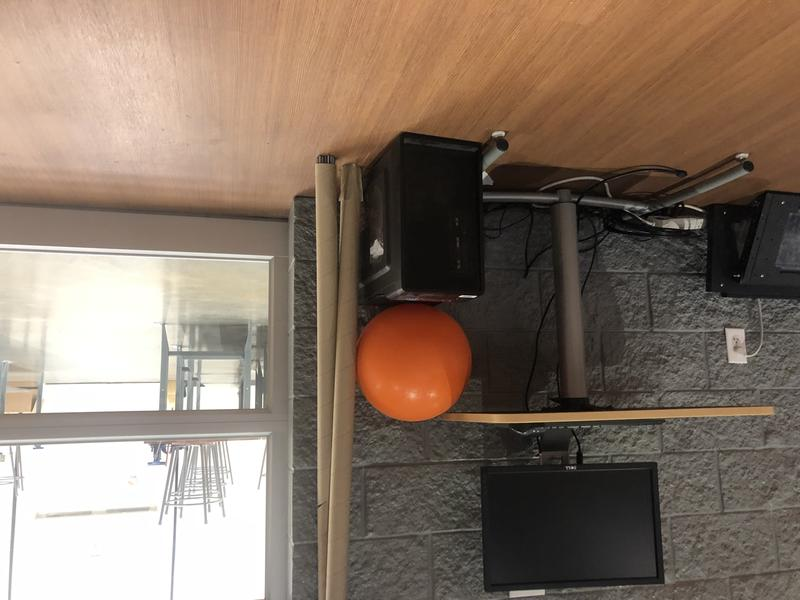ball: (357, 304, 474, 422)
